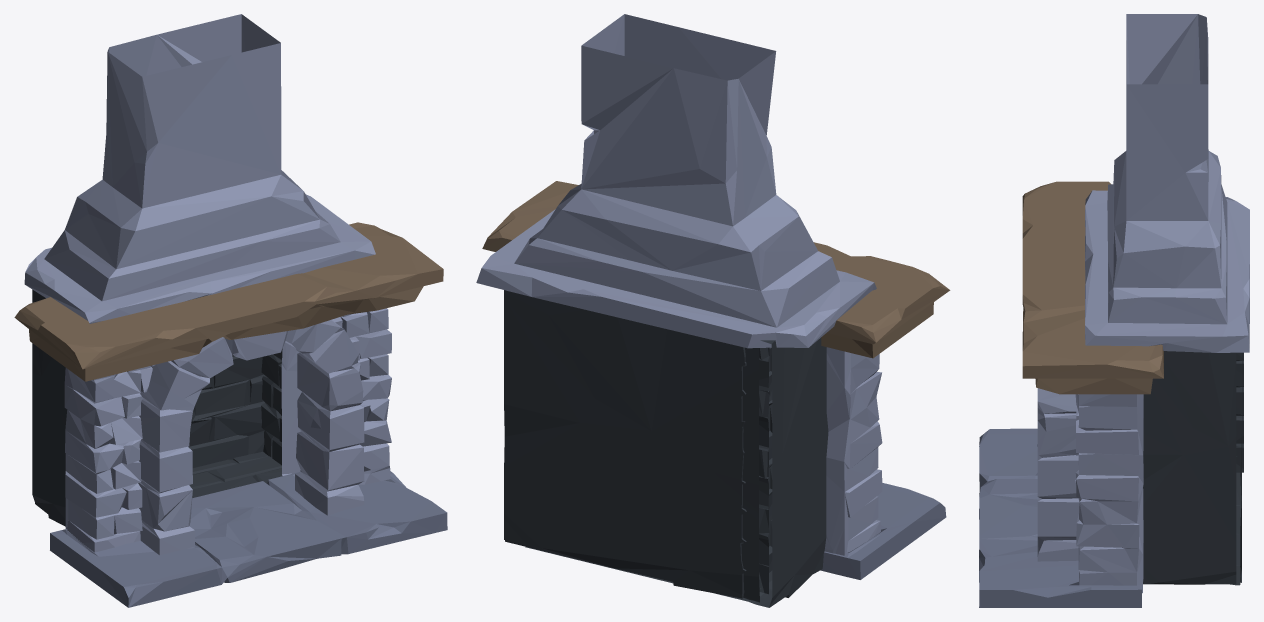
Rendered from Fireplace.FBX.
3 views of the same model, side by side, from view 1: azimuth 30°, elevation 25°; view 2: azimuth 150°, elevation 25°; view 3: azimuth 270°, elevation 25° (orthographic). The views are drawn at different scales.
Visible parts, largest first — view 1: Fireplace_01; view 2: Fireplace_01; view 3: Fireplace_01.
Part boxes in pixels (x1,y1,x2,y2): Fireplace_01: (14, 14, 447, 607); Fireplace_01: (476, 14, 950, 607); Fireplace_01: (979, 14, 1249, 607).
Bounding box in the file's own units: 3.62 × 4.4 × 2.27.
